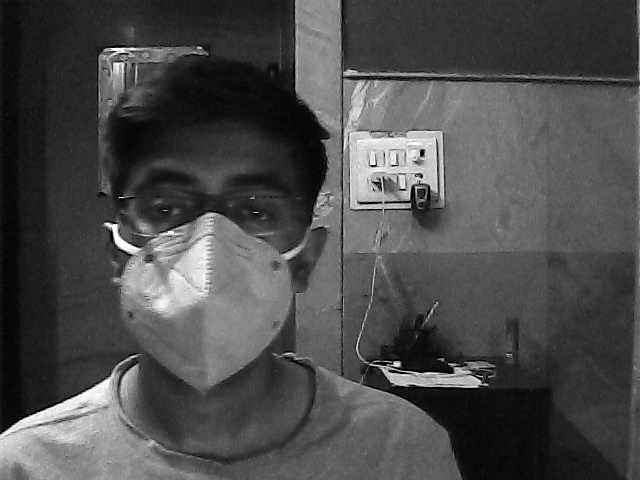mask: (114, 147, 306, 400)
